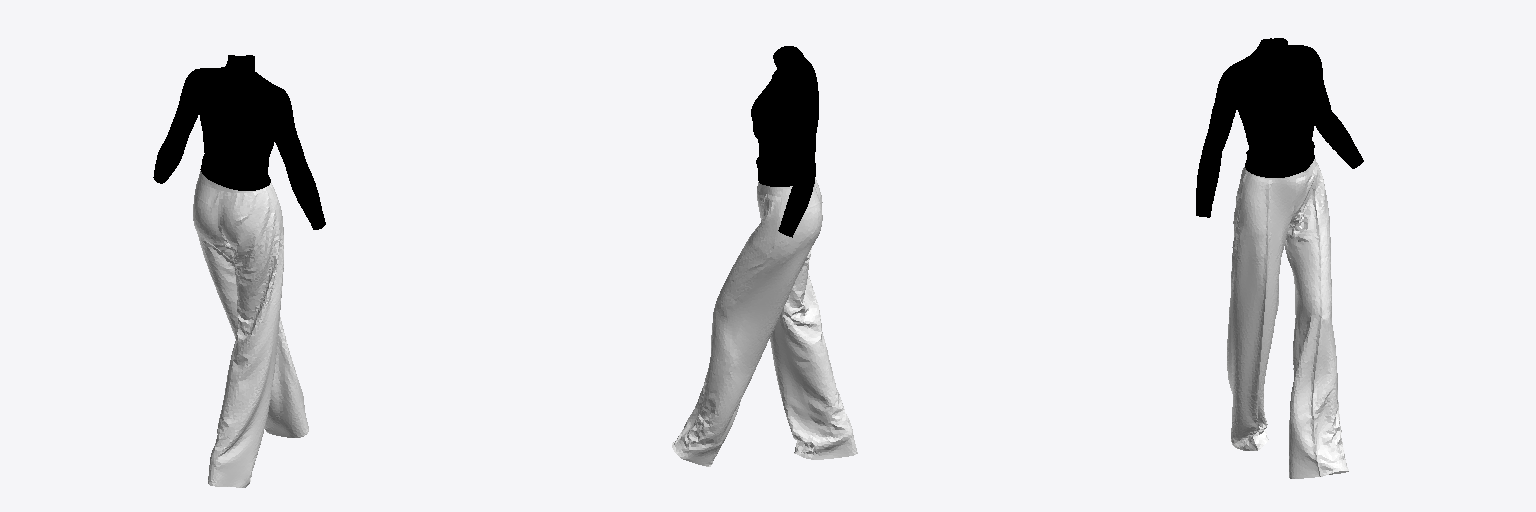
File: DA_HighNeck+WidePants_0000161.obj
3 renders of one model, left to right at view 1: azimuth 30°, elevation 25°; view 2: azimuth 150°, elevation 25°; view 3: azimuth 270°, elevation 25°, orthographic.
Bounding box in the file's own units: 0.5629 × 1.62 × 0.5982.